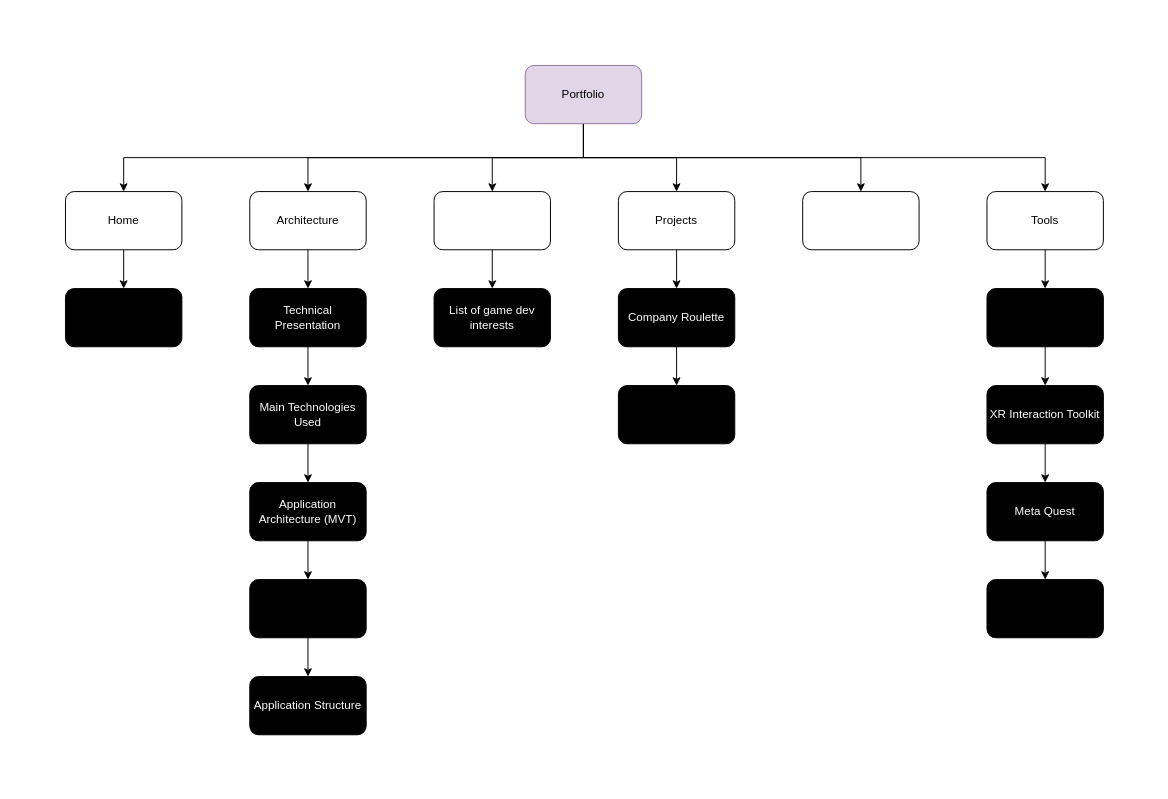
Image size: 1168x799. Some labels were removed from this diagram. The centre of each missing label's shape, as x and y in pixels:
"C#" belongs at point (1044, 608).
"CV" belongs at point (860, 220).
"Data Modeling (Entity-Relationship Diagram)" belongs at point (307, 608).
"Interests" belongs at point (491, 220).
"Intro" belongs at point (123, 317).
"Magical Intern" belongs at point (676, 414).
"Unity" belongs at point (1044, 317).
